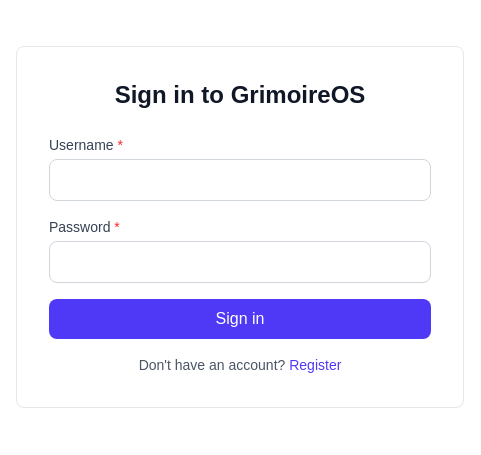
Test case: LoginPage › form submission - error handling › displays "Login failed" when login throws a non-Error
The width and height of the screenshot is (481, 455).
In the field labelled "Username *": (240, 180) [49,159,431,201], type "bad"
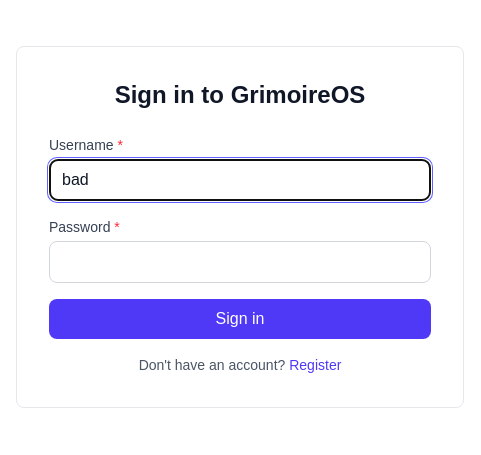
In the password field labelled "Password *": (240, 262) [49,241,431,283], type "creds"
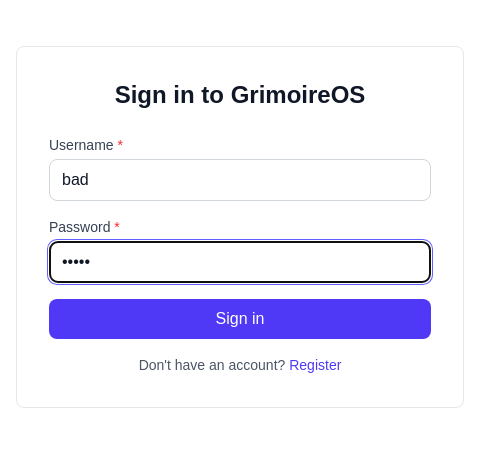
Click the button "Sign in": (240, 319) [49,299,431,339]
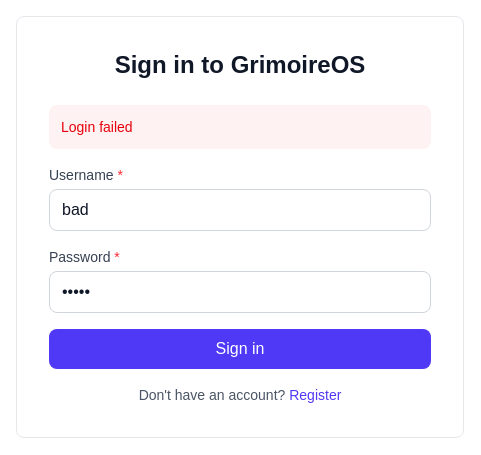
Result: the text "Login failed" is shown at [49,105,431,149]
